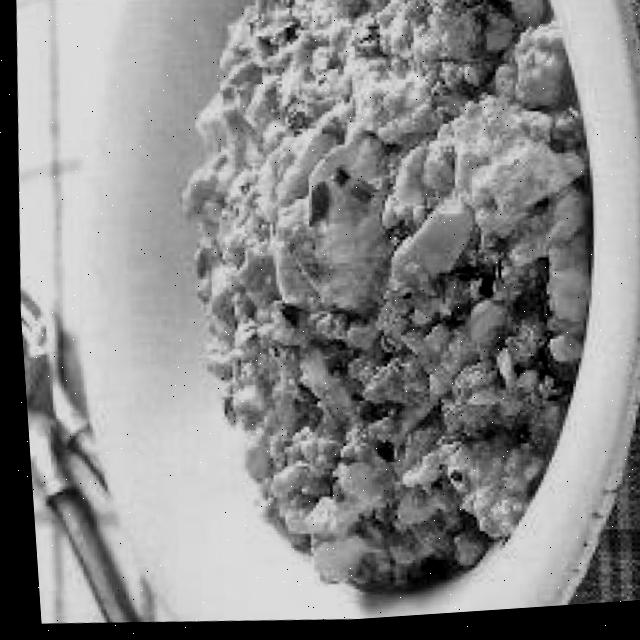豆腐料理: (23, 0, 640, 639)
